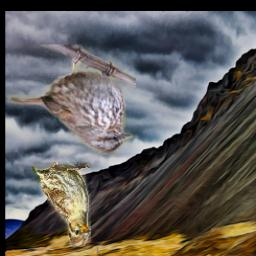Sparrow: (6, 44, 135, 157), (32, 162, 91, 247)
